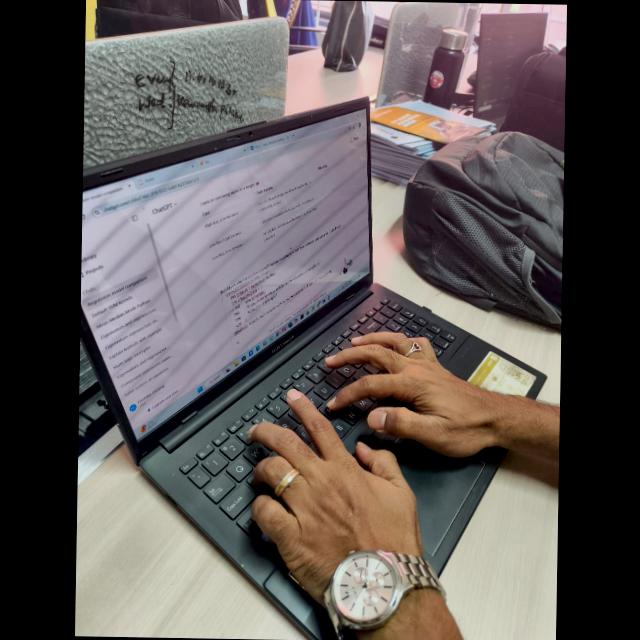laptop: (79, 135, 534, 623)
